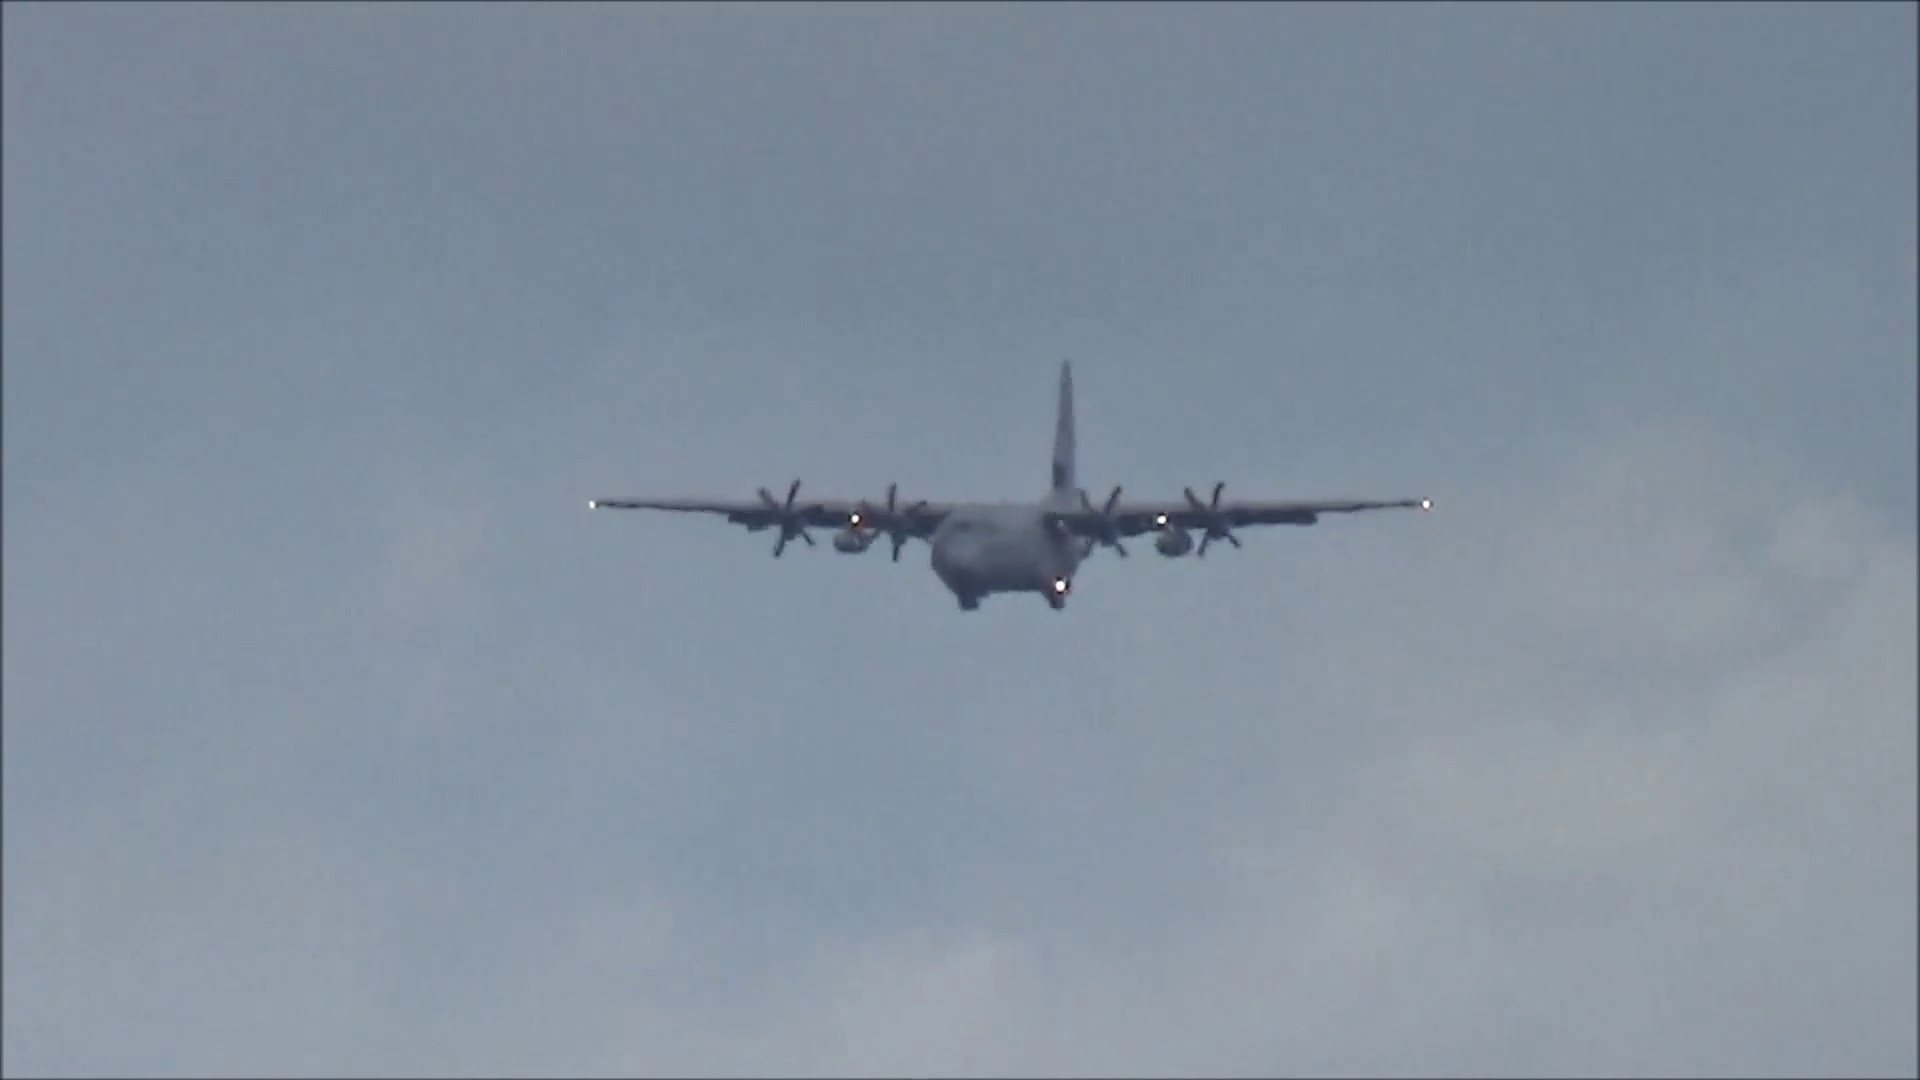Airplane: (584, 356, 1439, 613)
